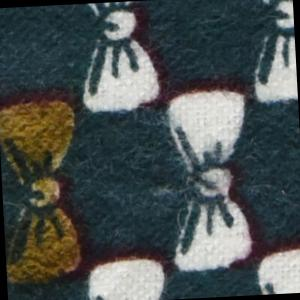Oil Stain: (1, 88, 98, 289)
